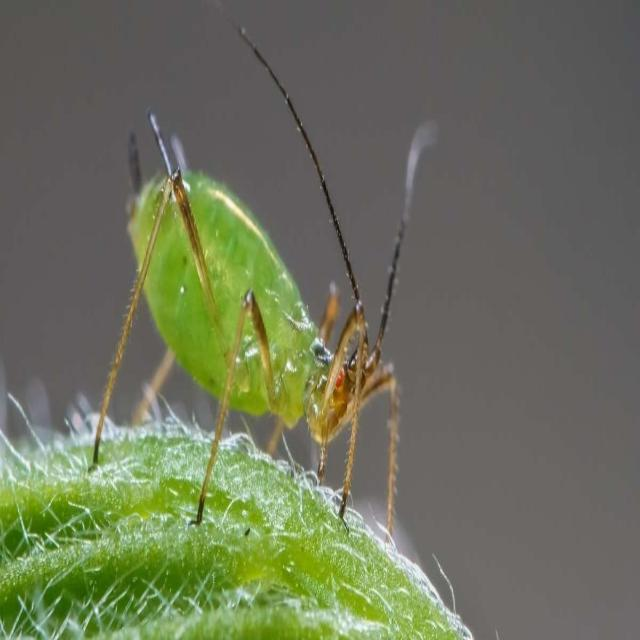Aphids: (127, 147, 429, 571)
